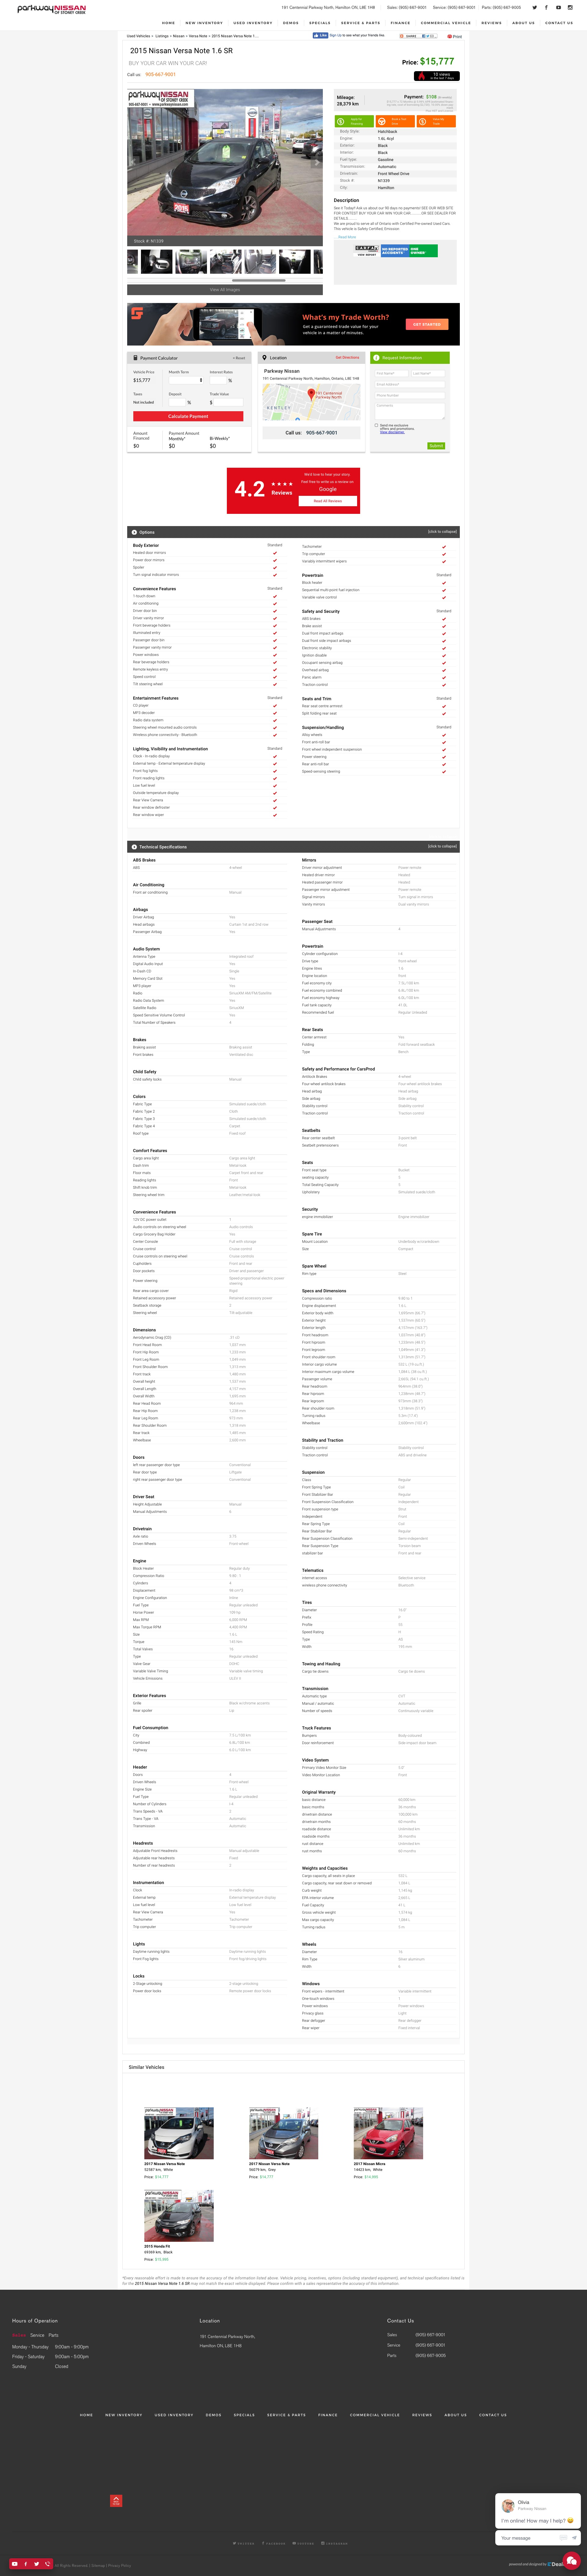car: (314, 159, 321, 166)
